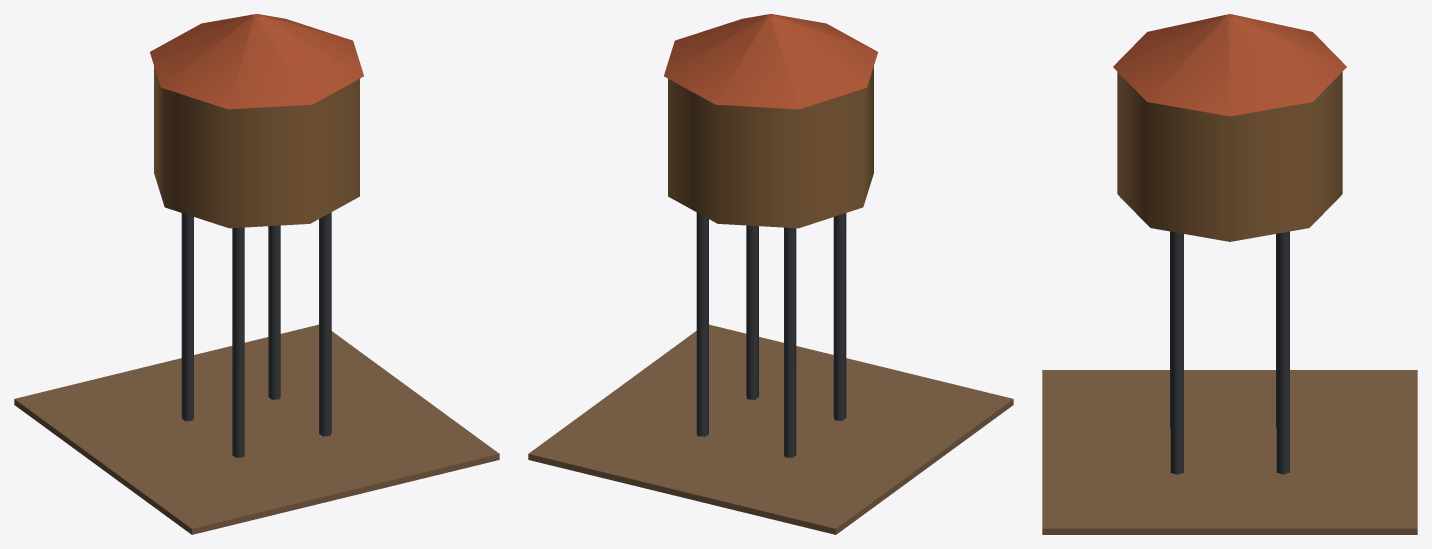
The model's file is bld_special_water_works_a04_lod1.glb.
3 views of the same model, side by side, from view 1: azimuth 30°, elevation 25°; view 2: azimuth 150°, elevation 25°; view 3: azimuth 270°, elevation 25° (orthographic). The views are drawn at different scales.
Parts seen in each view (by area): view 1: body; view 2: body; view 3: body.
Boxes of the visible parts, box(x1,y1,x2,y2) form: body: box(14, 14, 499, 534); body: box(528, 14, 1013, 534); body: box(1042, 14, 1417, 534).
Size of the model in its own units: 8 by 10.35 by 8.
